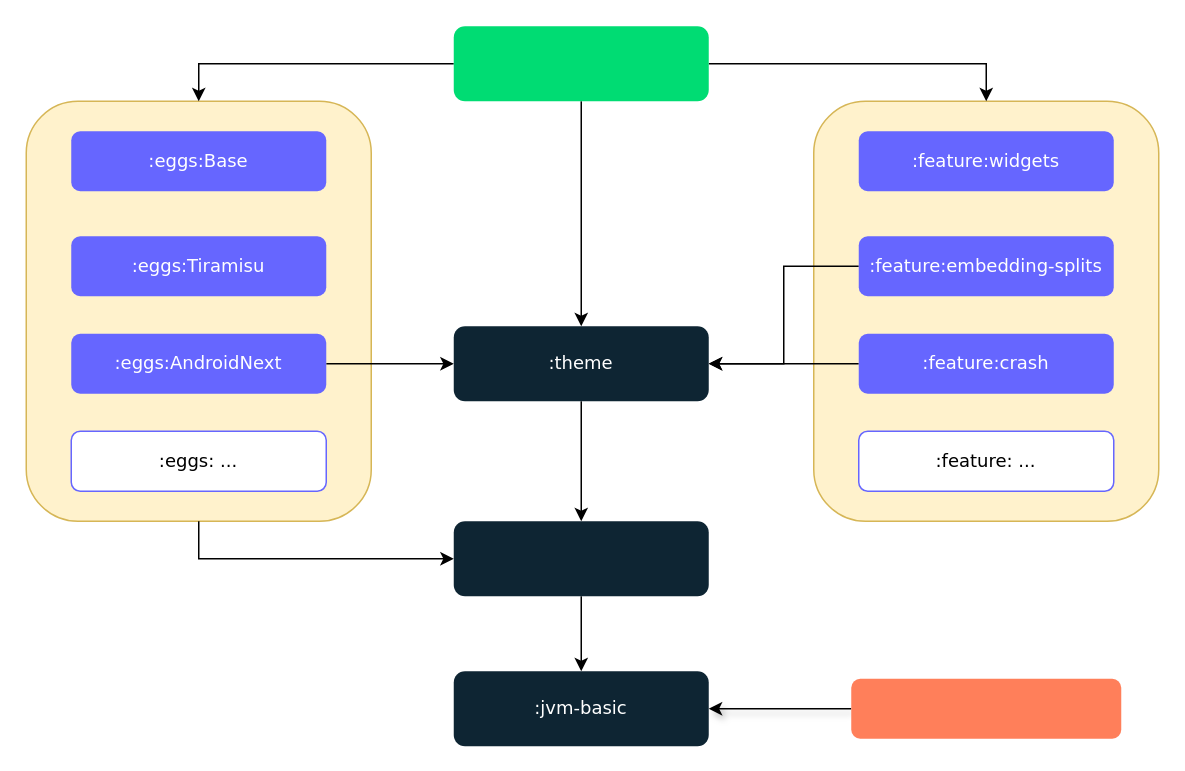
Image size: 1185x771. Some labels were removed from this diagram. The centre of each missing label's shape, as x and y in pixels:
:basic: pixel 580 558
:script :emoji-svg-xml-convertor: pixel 985 708
app: pixel 580 63
